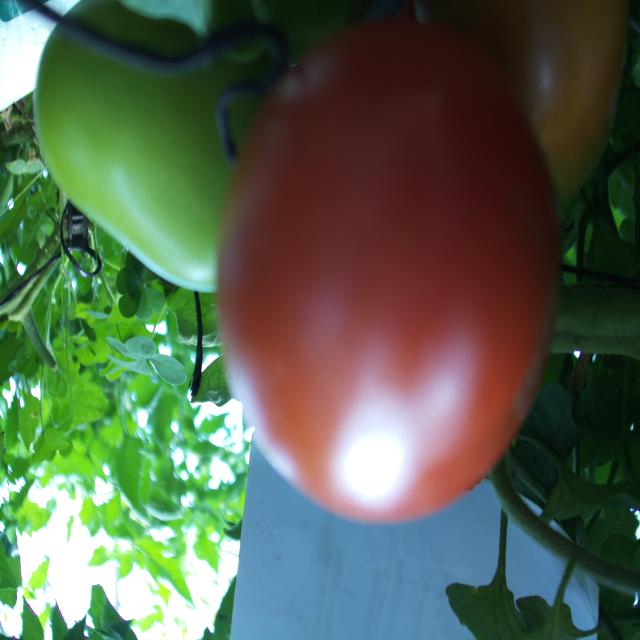kirmizi: (216, 6, 563, 541)
